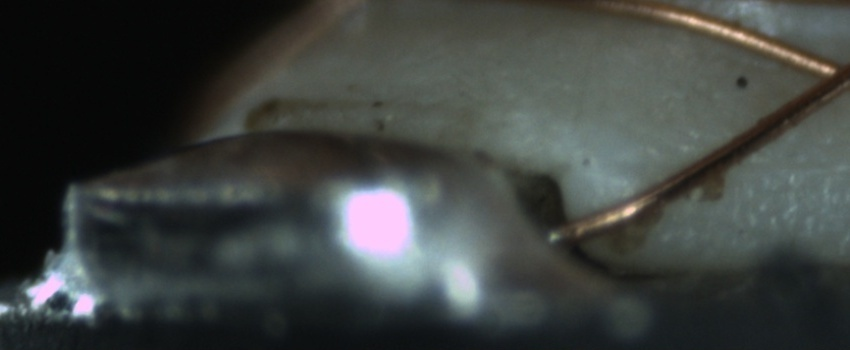CL: (781, 38, 848, 109)
